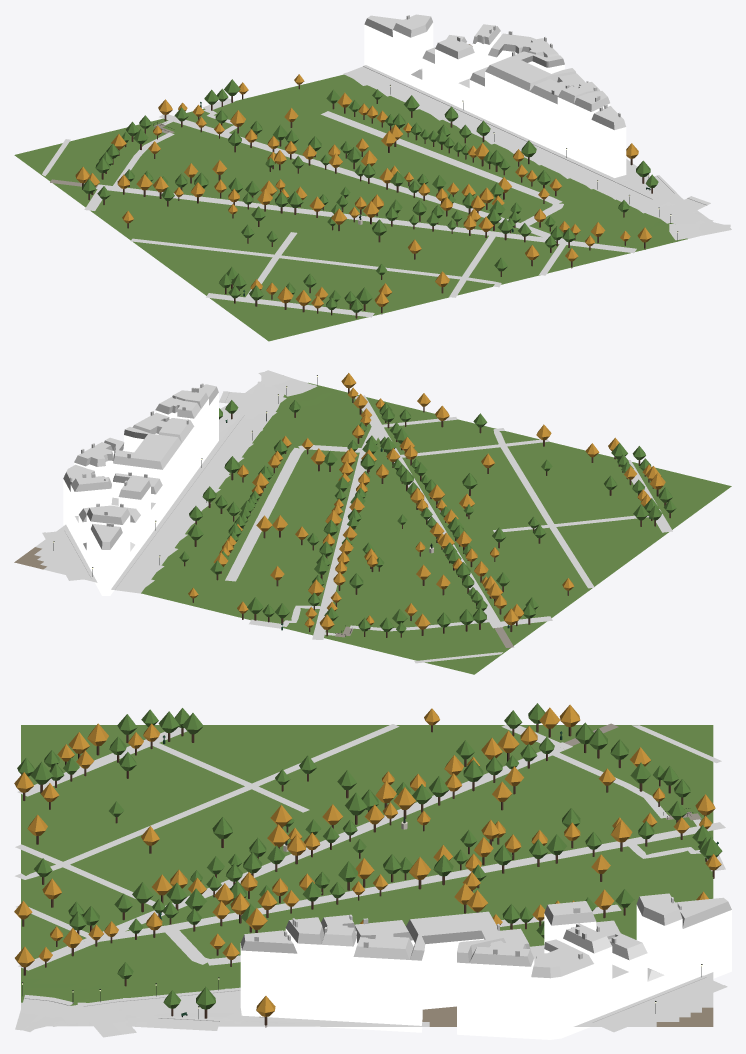
The model's file is zone_A5.glb.
3 renders of one model, top to bottom at view 1: azimuth 30°, elevation 25°; view 2: azimuth 150°, elevation 25°; view 3: azimuth 270°, elevation 25°, orthographic. The views are drawn at different scales.
Parts seen in each view (by area): view 1: zone_A5_terrain, zone_A5_decor_NOCOL, zone_A5_batiments, zone_A5_sol_NOCOL; view 2: zone_A5_terrain, zone_A5_decor_NOCOL, zone_A5_sol_NOCOL, zone_A5_batiments; view 3: zone_A5_terrain, zone_A5_batiments, zone_A5_decor_NOCOL, zone_A5_sol_NOCOL.
Boxes of the visible parts, x1,y1,x2,y2 form: zone_A5_terrain: (14,44,713,341); zone_A5_decor_NOCOL: (75,74,678,318); zone_A5_batiments: (358,14,626,224); zone_A5_sol_NOCOL: (42,65,731,317); zone_A5_terrain: (14,381,731,674); zone_A5_decor_NOCOL: (53,373,676,637); zone_A5_sol_NOCOL: (42,370,672,663); zone_A5_batiments: (63,383,440,595); zone_A5_terrain: (21,725,713,1026); zone_A5_batiments: (240,816,731,1039); zone_A5_decor_NOCOL: (14,703,722,1027); zone_A5_sol_NOCOL: (15,723,727,1037).
Size of the model in its own units: 197 by 28.15 by 190.
